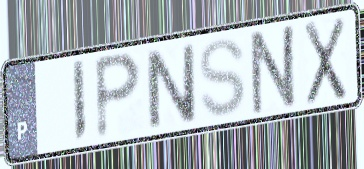I: (70, 57, 88, 146)
N: (142, 40, 200, 132), (249, 20, 300, 118)
P: (92, 49, 145, 144)
S: (196, 36, 248, 120)
X: (302, 13, 349, 109)
